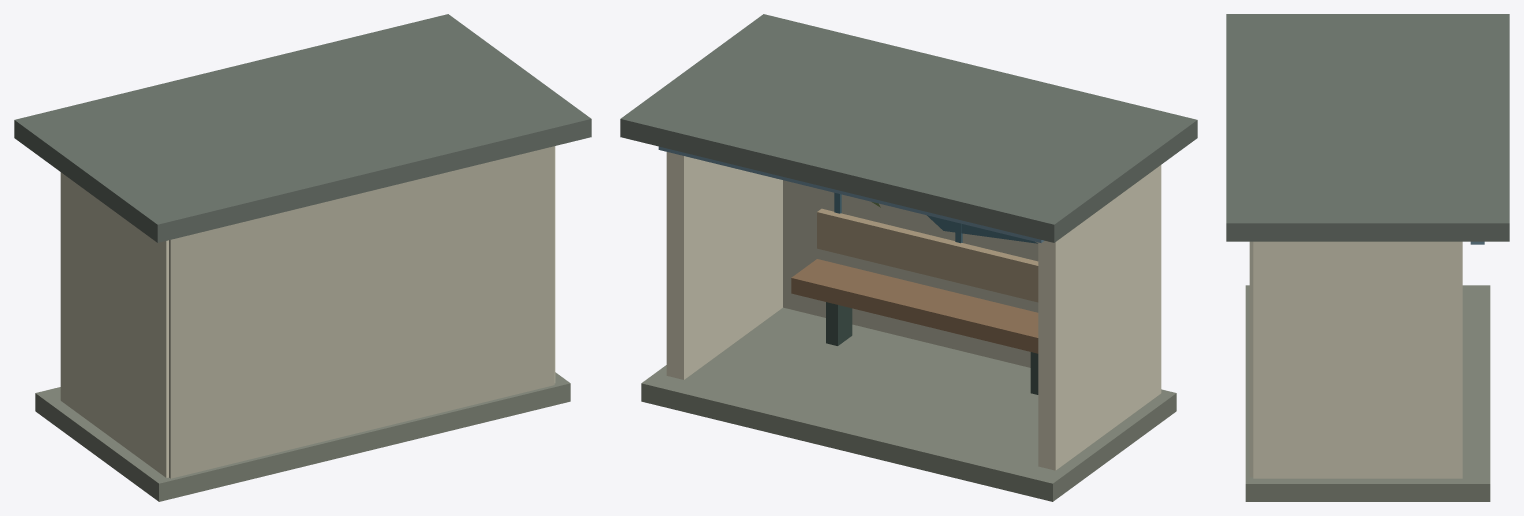
File: ua_bus_shelter_mosaic.obj
The picture shows the model from 3 angles, left to right: view 1: azimuth 30°, elevation 25°; view 2: azimuth 150°, elevation 25°; view 3: azimuth 270°, elevation 25°; orthographic projection.
Visible parts, largest first — view 1: ua_bus_shelter_mosaic; view 2: ua_bus_shelter_mosaic; view 3: ua_bus_shelter_mosaic.
Part boxes in pixels (bbox=[...]): ua_bus_shelter_mosaic: bbox=[14, 14, 591, 501]; ua_bus_shelter_mosaic: bbox=[620, 14, 1197, 501]; ua_bus_shelter_mosaic: bbox=[1226, 14, 1509, 501].
Size of the model in its own units: 3.48 by 2.2 by 1.99.
